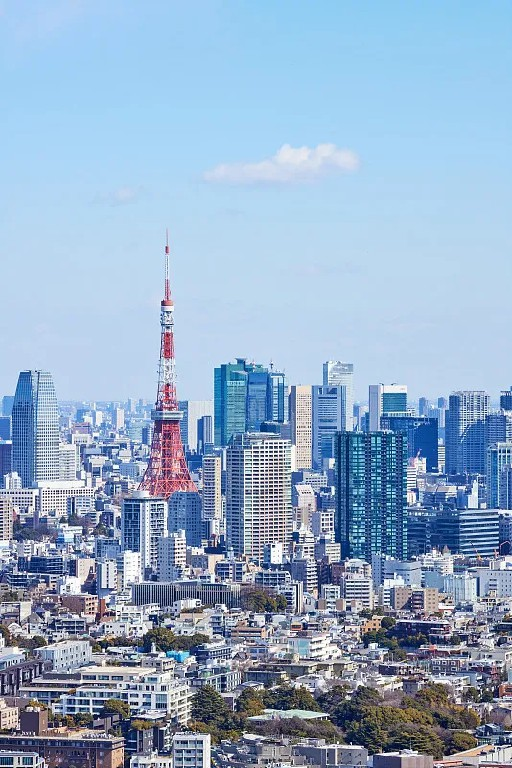Tokyo: (137, 228, 202, 497)
